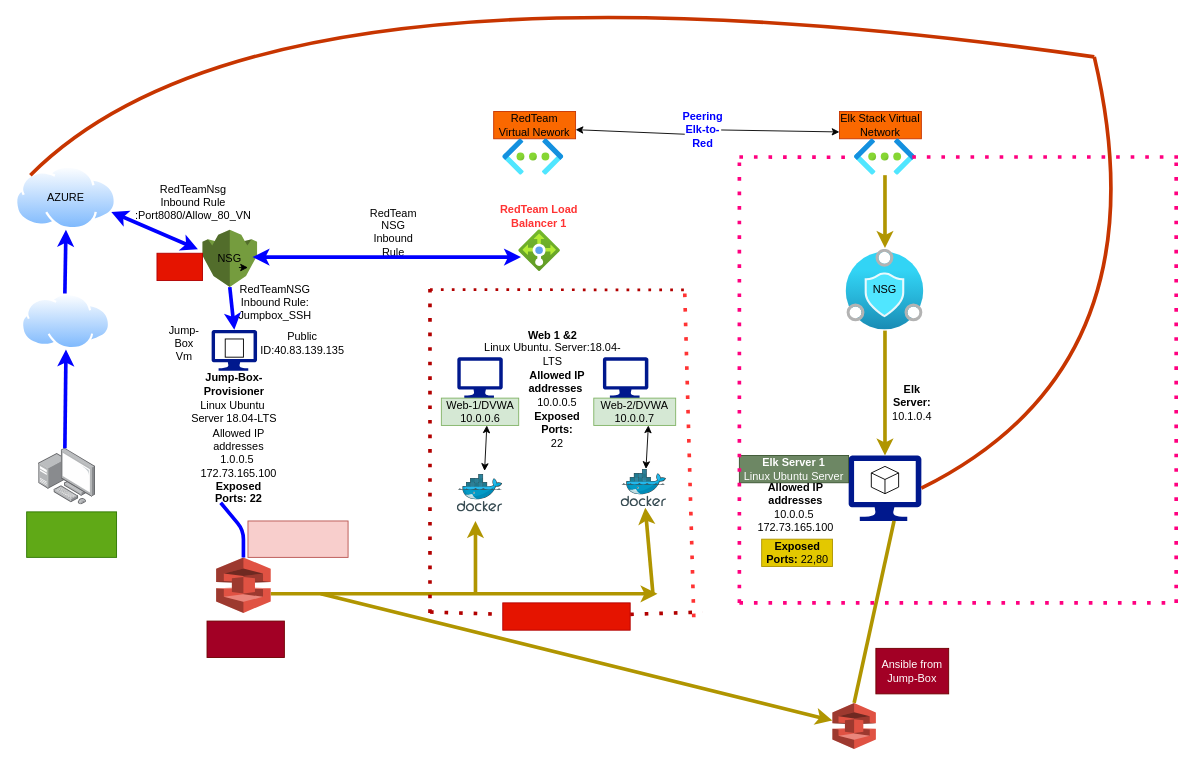
Image size: 1204x765. Some labels were removed from this diagram. Here are the shapes that lost their labels. From the top down, the centre of each, then its label:
At point 179,266: "Redteam NSG".
At point 65,321: "INTERNET".
At point 71,534: "Workstation Public ID:172.73.165.100".
At point 297,538: "RedTeamNSG Inbound Rule: Container_SSH".
At point 566,616: "RedTeam Load Balancer1 Backend Pool".
At point 245,638: "Ansible on Jump-Box".
